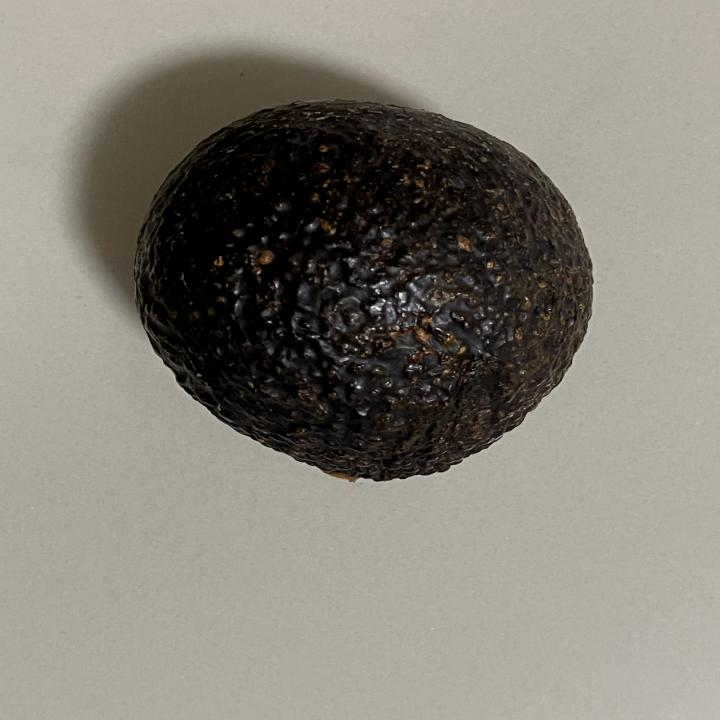Level2: (125, 93, 605, 493)
